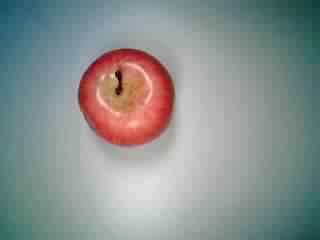apple: (77, 46, 182, 150)
